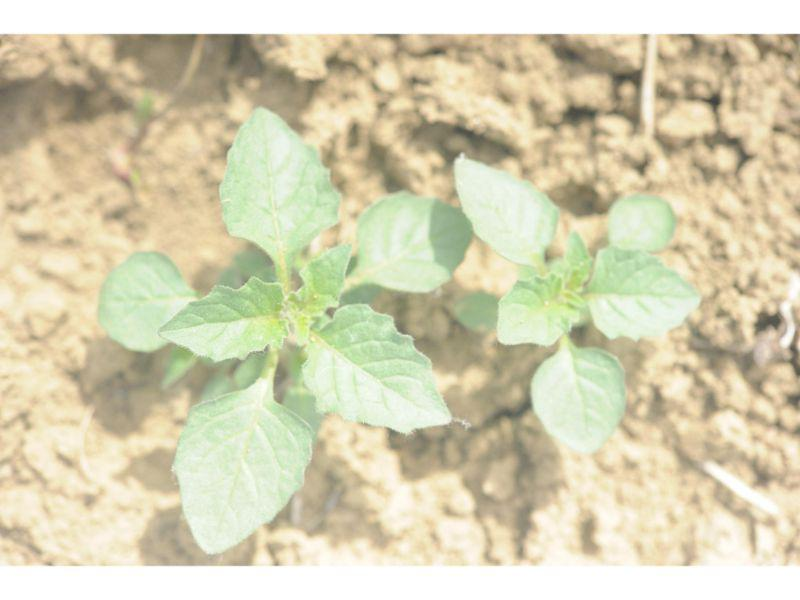nightshade: (96, 107, 473, 554), (454, 154, 704, 457)
